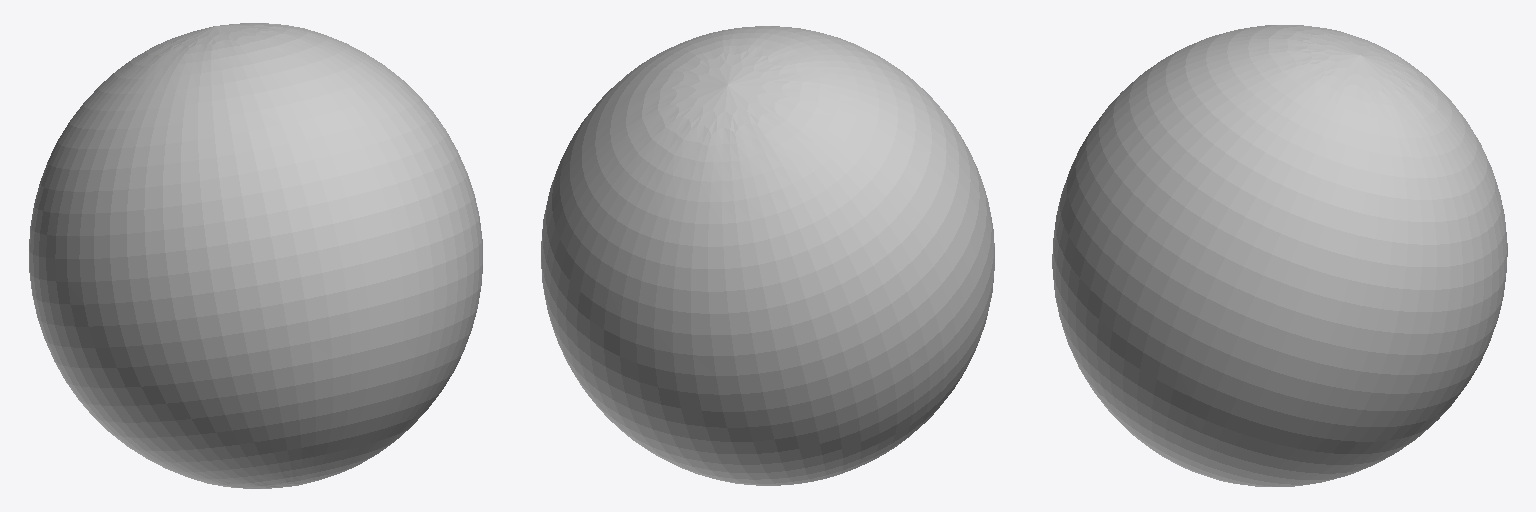
File: ball12.obj
3 views of the same model, side by side, from view 1: azimuth 30°, elevation 25°; view 2: azimuth 150°, elevation 25°; view 3: azimuth 270°, elevation 25° (orthographic).
Parts seen in each view (by area): view 1: Sphere01.008; view 2: Sphere01.008; view 3: Sphere01.008.
Part boxes in pixels (x1,y1,x2,y2): Sphere01.008: (29,23,482,488); Sphere01.008: (541,26,994,485); Sphere01.008: (1052,25,1507,486).
Size of the model in its own units: 5.45 by 5.58 by 5.46.